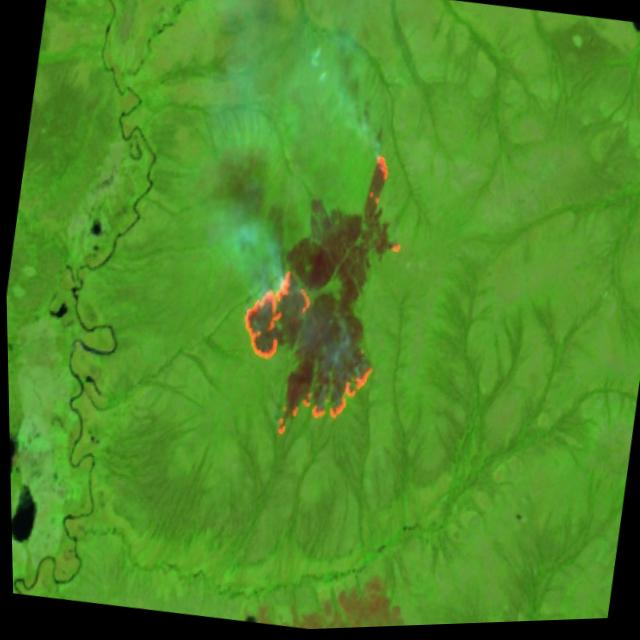fire: (217, 131, 422, 457)
